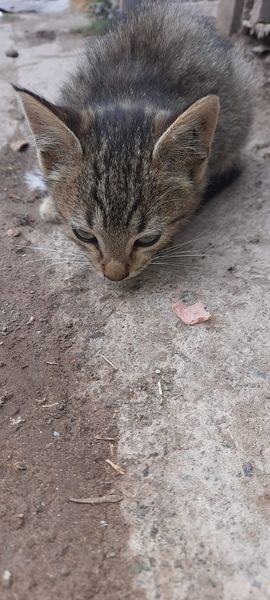cat: (3, 4, 262, 288)
